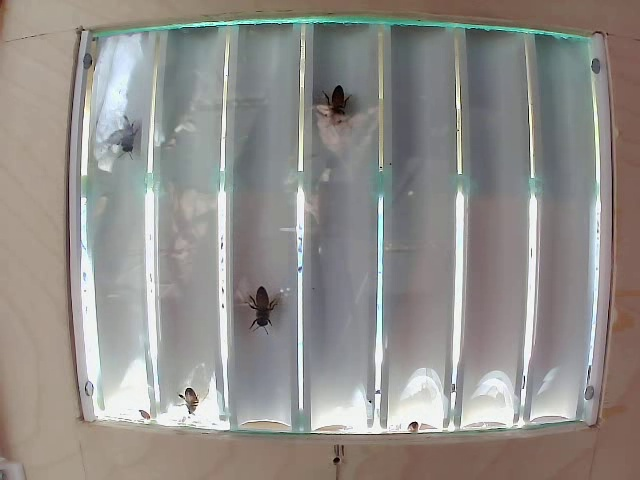bee: (304, 71, 364, 152), (103, 101, 151, 167), (242, 265, 287, 335)
